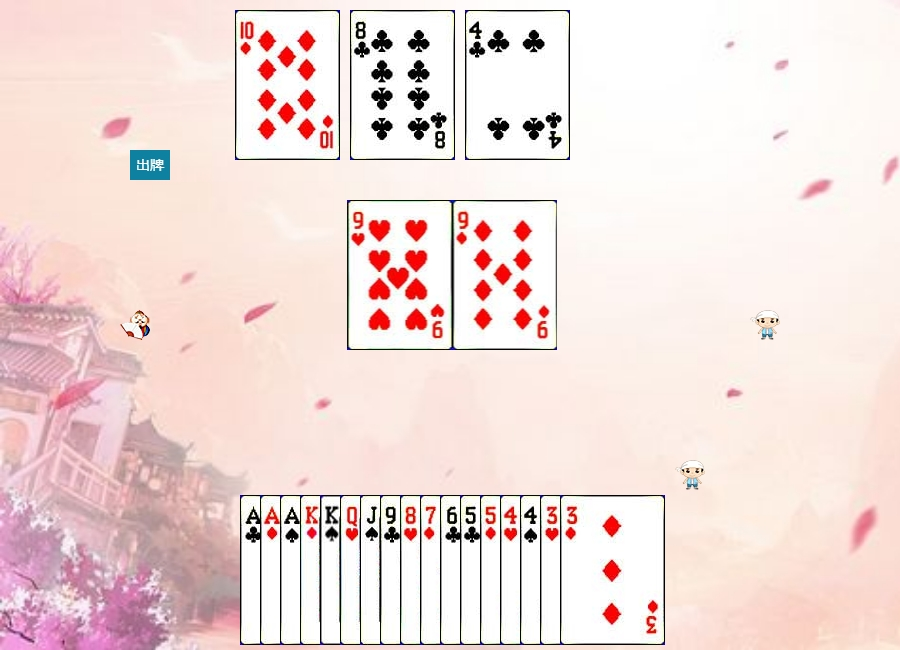10~1: (235, 10, 340, 160)
11~4: (360, 495, 465, 645)
12~3: (340, 495, 445, 645)
13~1: (300, 495, 405, 645)
13~4: (320, 495, 425, 645)
14~1: (260, 495, 365, 645)
14~2: (240, 495, 345, 645)
14~4: (280, 495, 385, 645)
3~1: (560, 495, 665, 645)
3~3: (540, 495, 645, 645)
4~2: (465, 10, 570, 160)
4~3: (500, 495, 605, 645)
4~4: (520, 495, 625, 645)
5~1: (480, 495, 585, 645)
5~2: (460, 495, 565, 645)
6~2: (440, 495, 545, 645)
7~1: (420, 495, 525, 645)
8~2: (350, 10, 455, 160)
8~3: (400, 495, 505, 645)
9~1: (453, 200, 558, 350)
9~2: (380, 495, 485, 645)
9~3: (348, 200, 453, 350)
